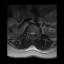CCS_normal: (32, 30, 33, 37)
LFS_stenosis: (34, 31, 36, 36)
LLS_normal: (33, 31, 34, 36)
RFS_normal: (28, 31, 30, 36)
RLS_normal: (30, 31, 32, 36)
